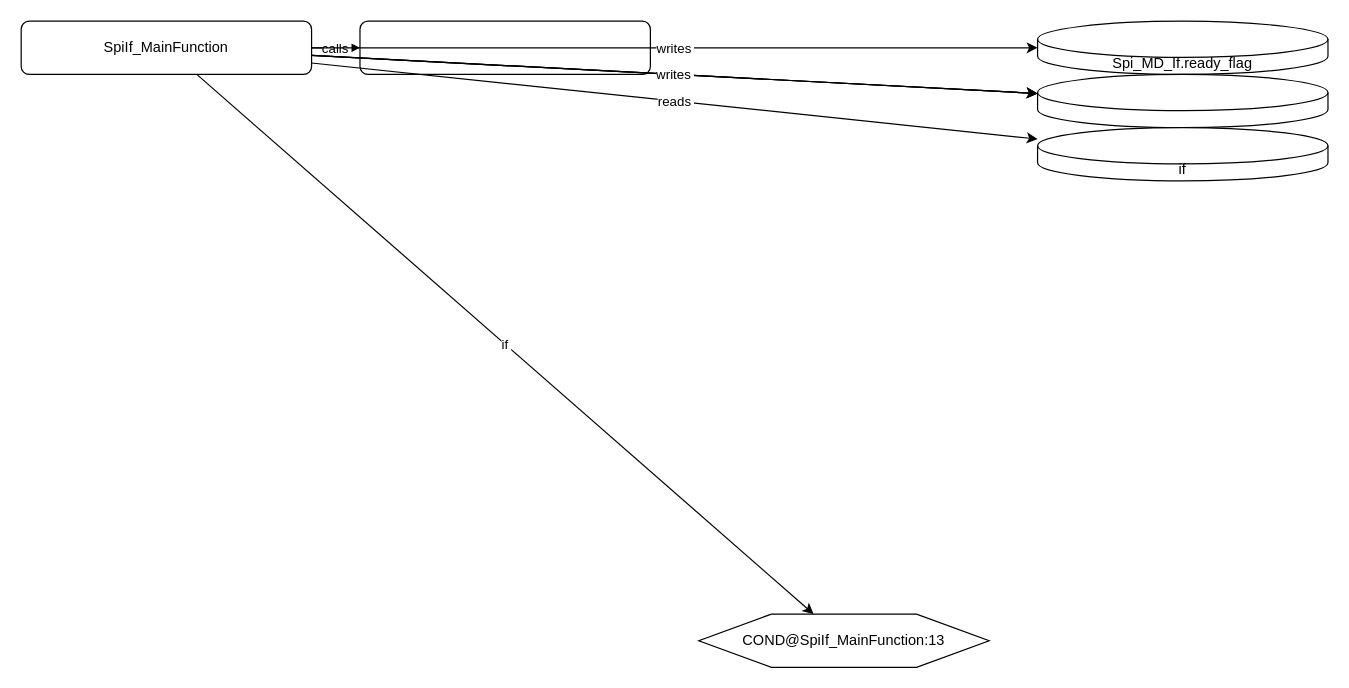
This 1349x688 diagram has some shape labels left out. Each missing label, with the centre of its shape:
"g_State" belongs at (1182,100).
"SpiIf_Helper" belongs at (504,47).
